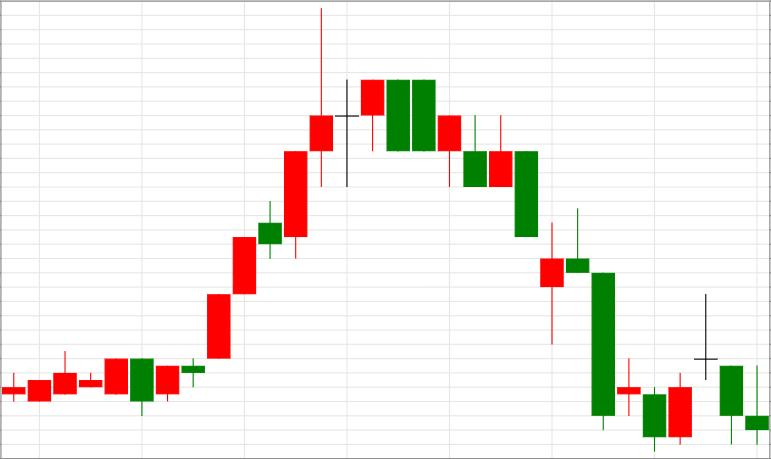shooting_star_fall: (207, 8, 333, 359)
